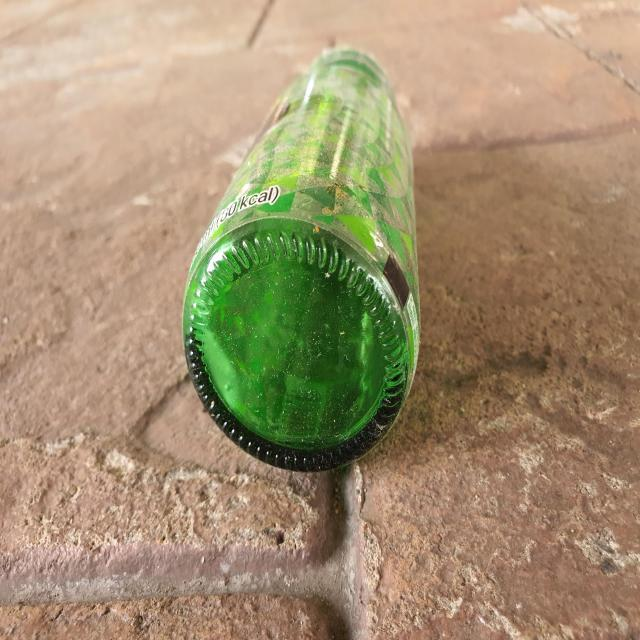glass: (182, 47, 420, 471)
